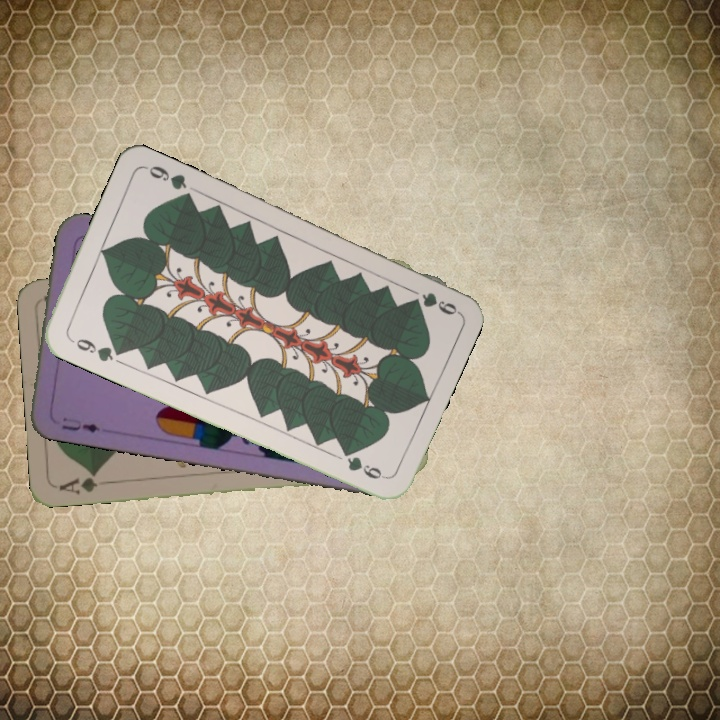EU: (57, 419, 102, 436)
G9: (65, 333, 125, 365), (411, 288, 460, 318)
GA: (55, 468, 113, 497)
